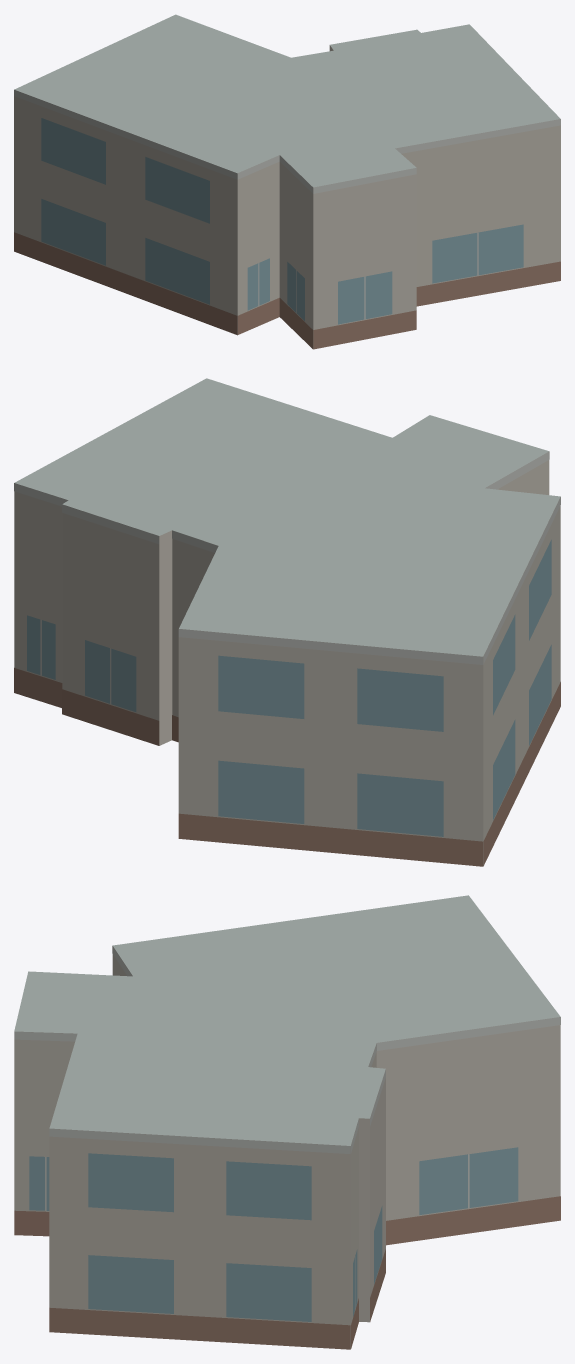
Rendered from survey-upis-32525704.glb.
3 renders of one model, top to bottom at view 1: azimuth 30°, elevation 25°; view 2: azimuth 150°, elevation 25°; view 3: azimuth 270°, elevation 25°, orthographic. The views are drawn at different scales.
Visible parts, largest first — view 1: survey-upis-32525704.tmp; view 2: survey-upis-32525704.tmp; view 3: survey-upis-32525704.tmp.
Boxes of the visible parts, x1,y1,x2,y2 form: survey-upis-32525704.tmp: (14,14,560,349); survey-upis-32525704.tmp: (14,378,560,866); survey-upis-32525704.tmp: (14,895,560,1349).
Size of the model in its own units: 16.12 by 6.1 by 14.85.
